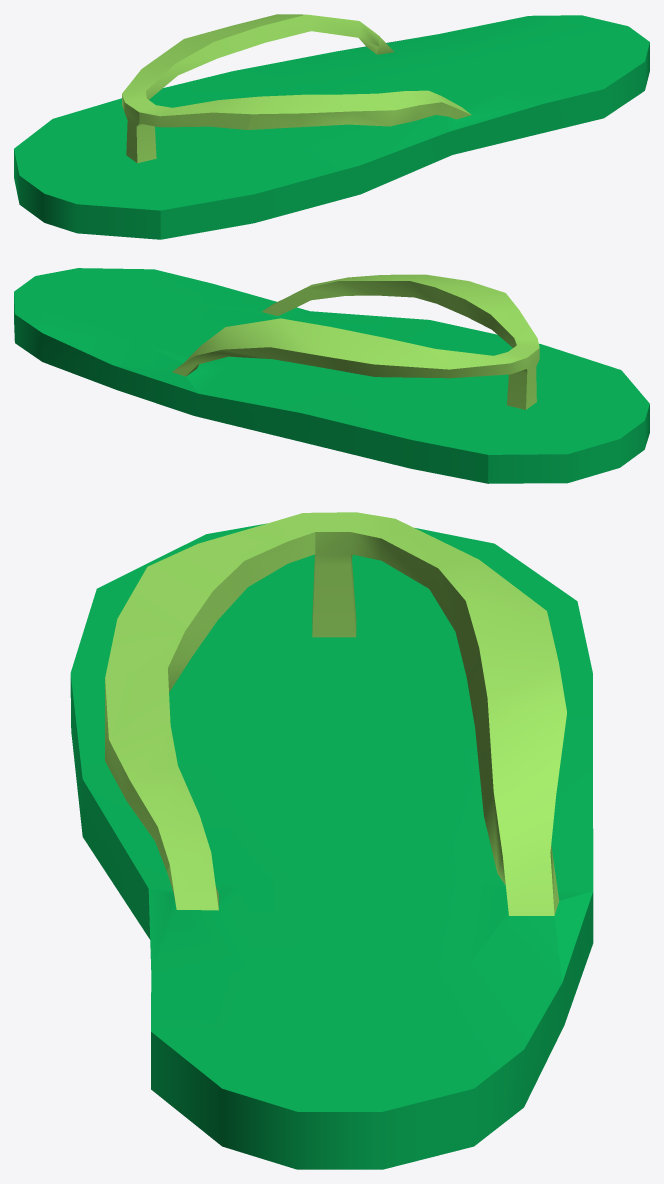
File: FlipFlop.fbx
3 renders of one model, top to bottom at view 1: azimuth 30°, elevation 25°; view 2: azimuth 150°, elevation 25°; view 3: azimuth 270°, elevation 25°, orthographic. The views are drawn at different scales.
Visible parts, largest first — view 1: FlipFlop; view 2: FlipFlop; view 3: FlipFlop.
Part boxes in pixels (left/top/right/bottom): FlipFlop: left=14, top=14, right=649, bottom=239; FlipFlop: left=14, top=268, right=649, bottom=483; FlipFlop: left=70, top=512, right=593, bottom=1169.
Size of the model in its own units: 1.12 by 0.1665 by 0.4172.
